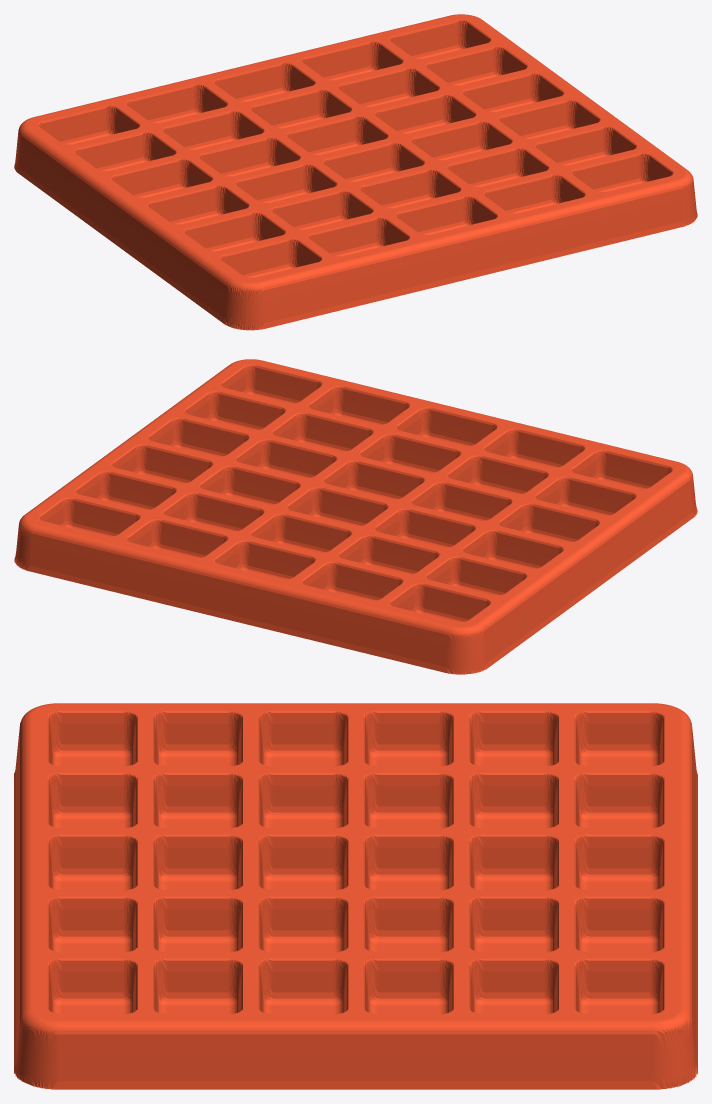
Rendered from mold.glb.
The picture shows the model from 3 angles, top to bottom: view 1: azimuth 30°, elevation 25°; view 2: azimuth 150°, elevation 25°; view 3: azimuth 270°, elevation 25°; orthographic projection. The views are drawn at different scales.
Visible parts, largest first — view 1: geometry_0; view 2: geometry_0; view 3: geometry_0.
Boxes of the visible parts, x1,y1,x2,y2 form: geometry_0: (14,14,697,330); geometry_0: (14,359,697,674); geometry_0: (14,703,697,1089).
Size of the model in its own units: 0.1581 by 0.0136 by 0.1378.
